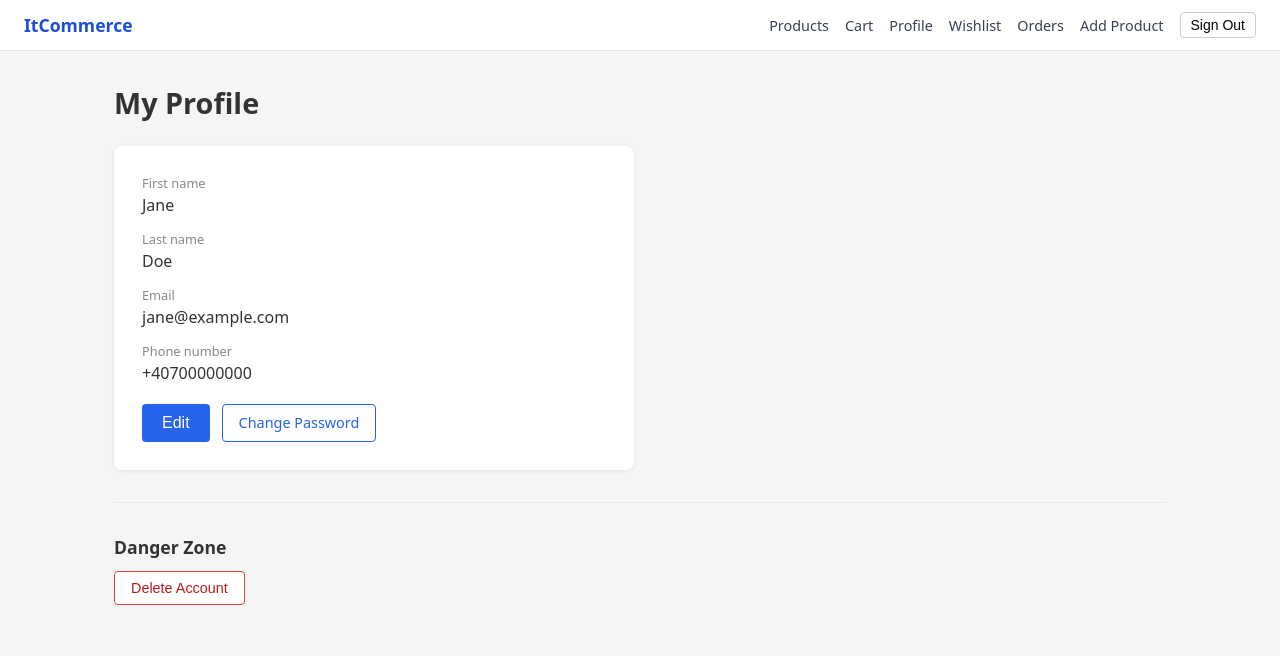
Test: Profile › edit profile › validates empty email
This screenshot has width=1280, height=656.
Click the button "Edit". click: (176, 423)
box: [142,404,210,442]
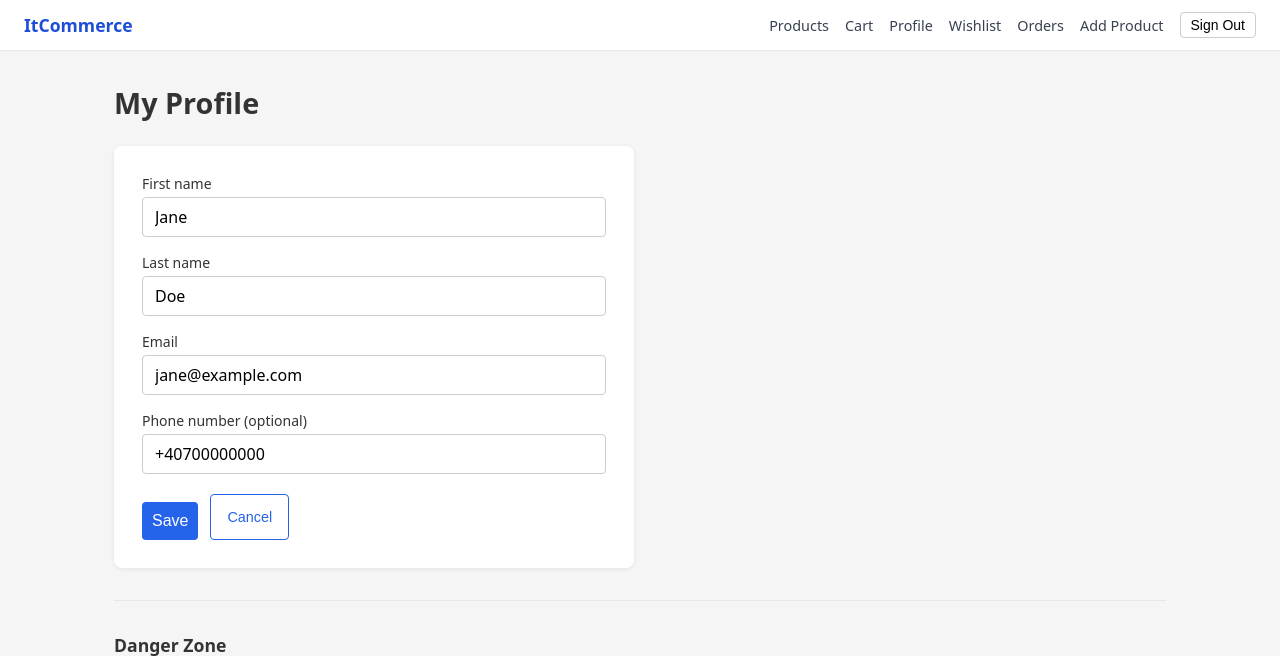
Clear the field labelled "Email". click: (374, 375)
box: [142,355,606,395]
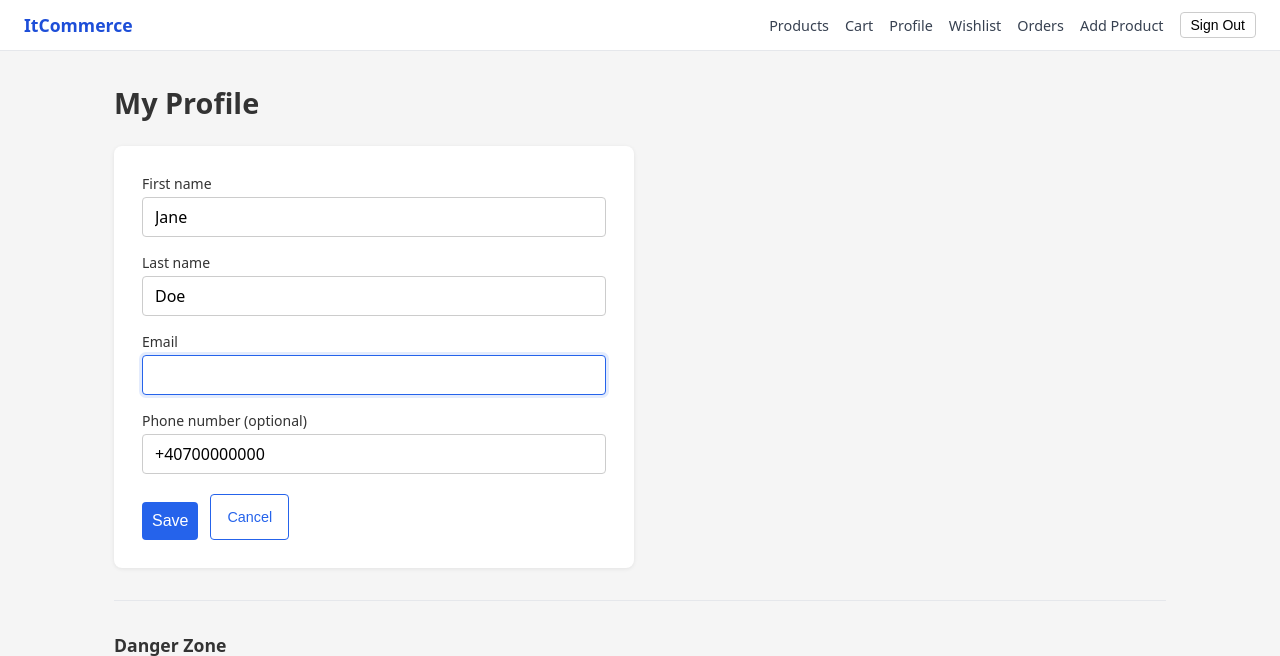
Click the button "Save". click: (170, 521)
box: [142,502,198,540]
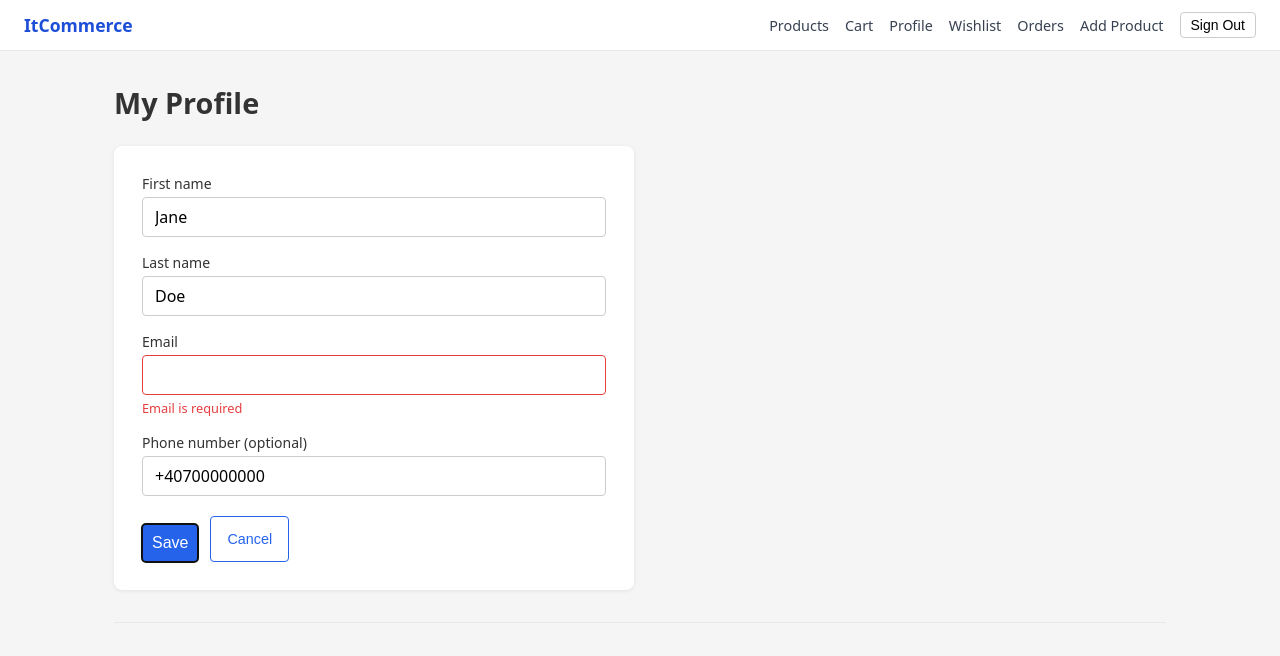
Check: the text "Email is required" is shown, box [142,399,242,417]
